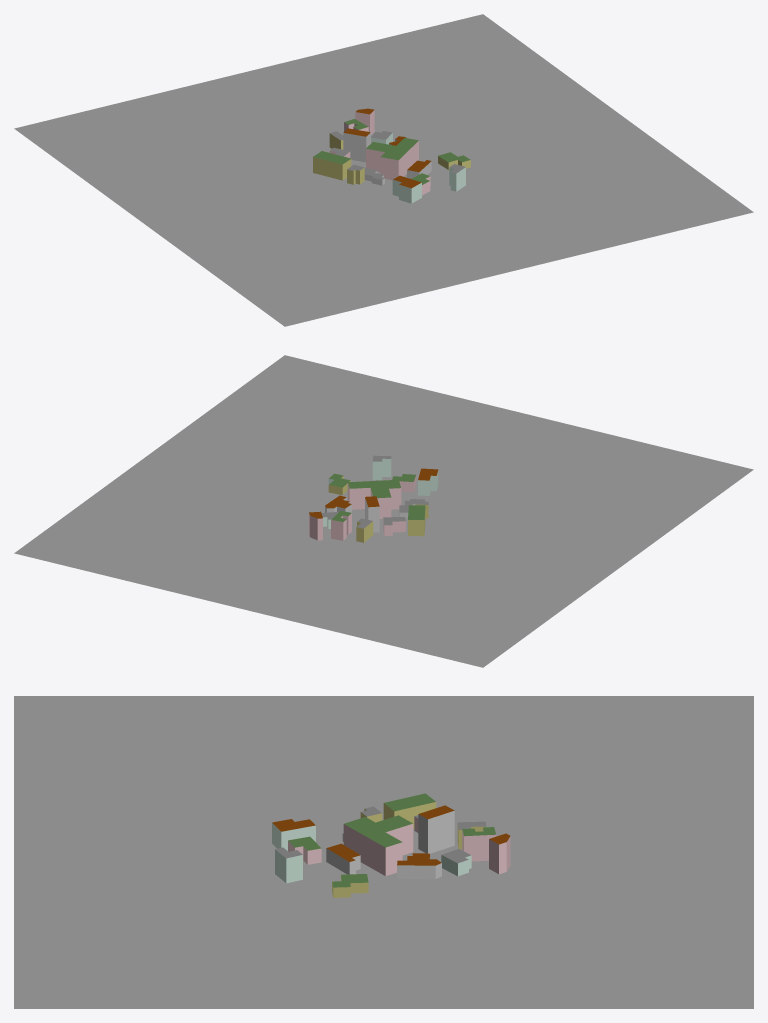
The picture shows the model from 3 angles, top to bottom: view 1: azimuth 30°, elevation 25°; view 2: azimuth 150°, elevation 25°; view 3: azimuth 270°, elevation 25°; orthographic projection. The views are drawn at different scales.
Parts seen in each view (by area): view 1: 0; view 2: 0; view 3: 0.
Boxes of the visible parts, x1,y1,x2,y2 form: 0: [14, 14, 753, 326]; 0: [14, 355, 753, 667]; 0: [14, 696, 753, 1008].
Bounding box in the file's own units: 351 × 18.38 × 351.
